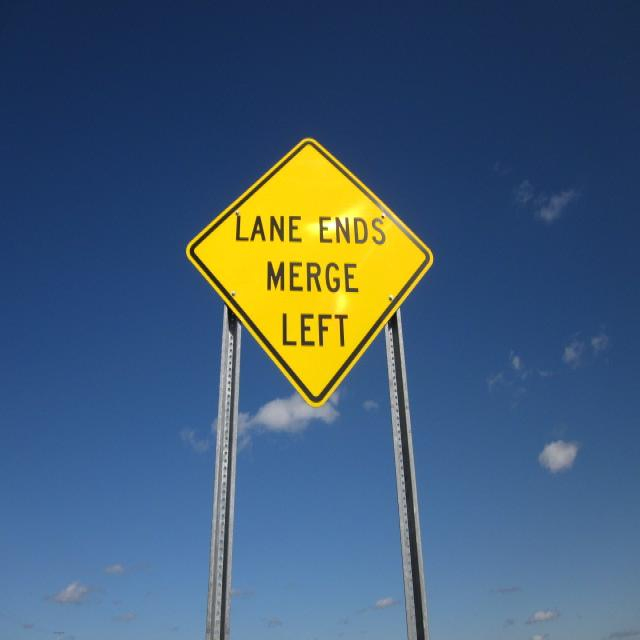warning: (179, 127, 441, 408)
